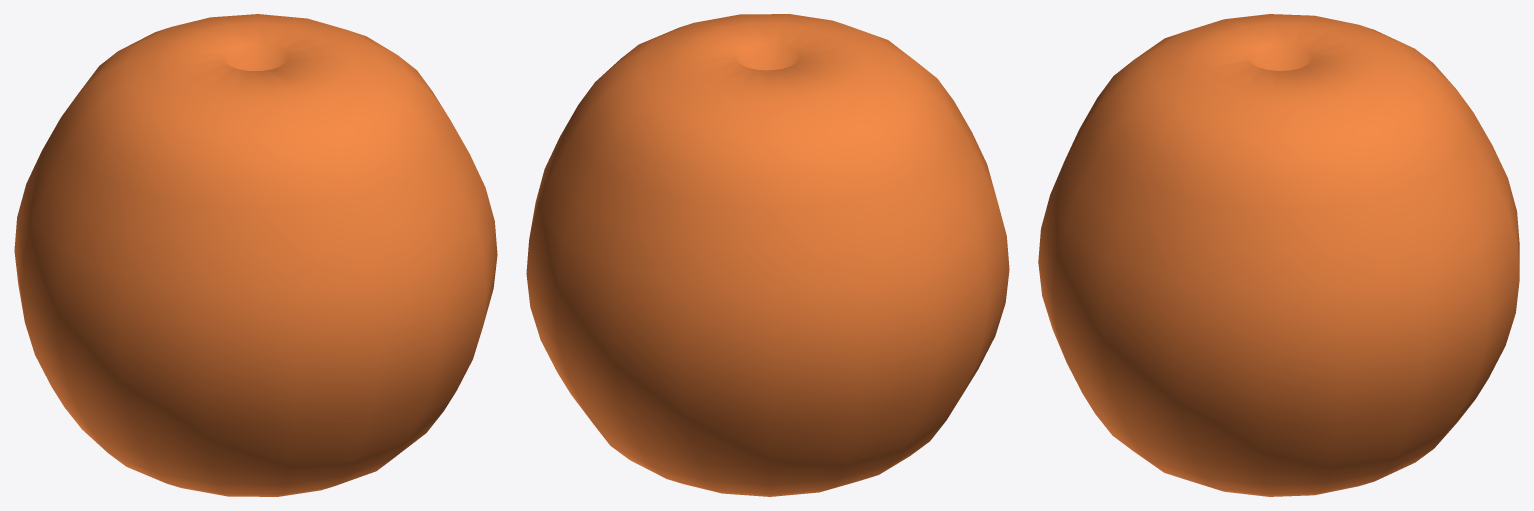
File: Orange.glb
3 renders of one model, left to right at view 1: azimuth 30°, elevation 25°; view 2: azimuth 150°, elevation 25°; view 3: azimuth 270°, elevation 25°, orthographic.
Parts seen in each view (by area): view 1: Orange; view 2: Orange; view 3: Orange.
Part boxes in pixels (x1=…): Orange: x1=14, y1=14, x2=497, y2=496; Orange: x1=526, y1=14, x2=1009, y2=496; Orange: x1=1038, y1=14, x2=1519, y2=496.
Size of the model in its own units: 0.0705 by 0.0638 by 0.0703.
